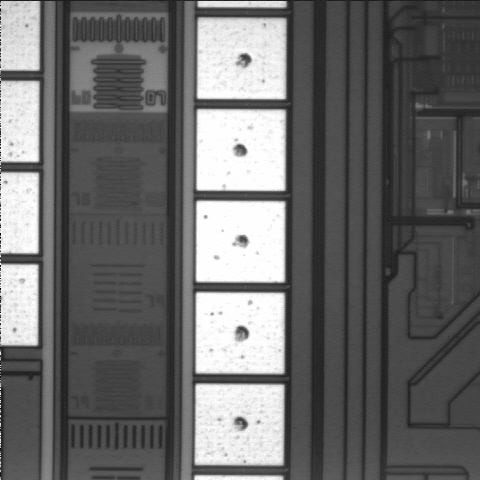pad: (196, 109, 286, 191), (196, 201, 285, 283), (196, 292, 285, 374), (197, 18, 286, 99), (195, 384, 284, 465)
